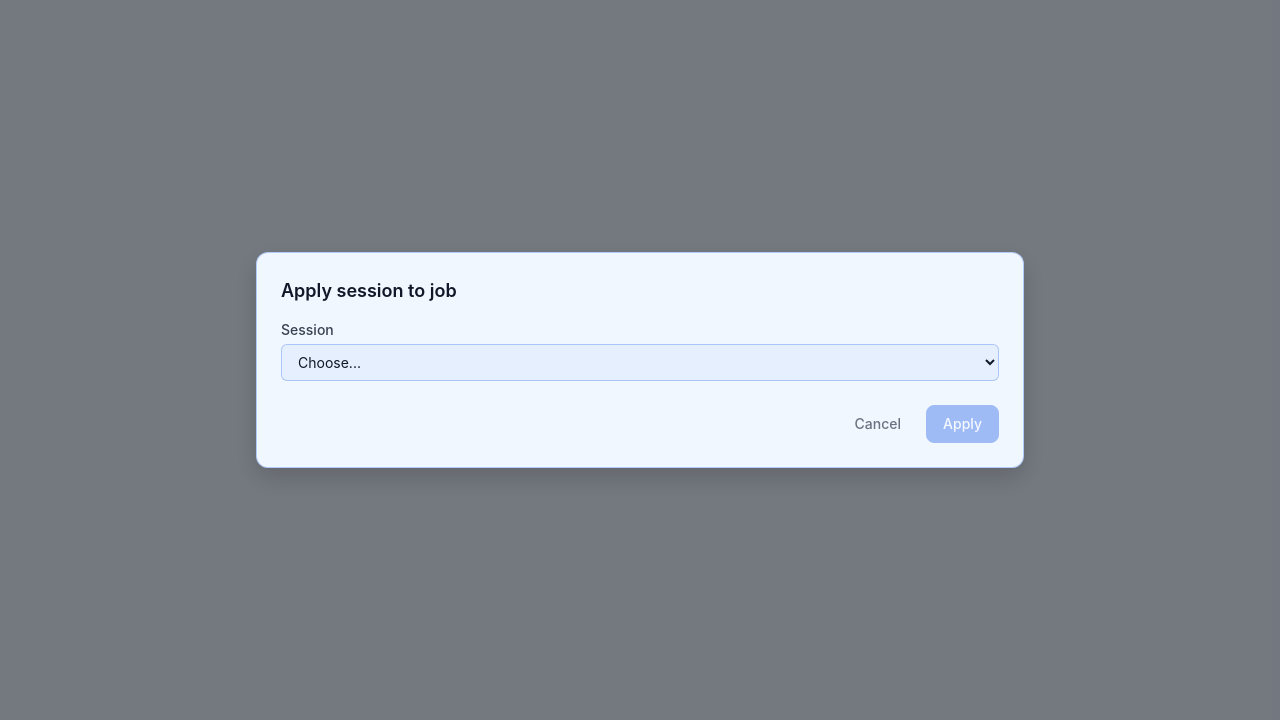
Test: ApplySessionDialog › hides the Overwrite button and shows the explanation for a duplicate_in_request collision
Step 1. Select "Movie MKV (movie)" in the dropdown with test id "apply-session-select" → point(640, 362), box [281,344,999,381]
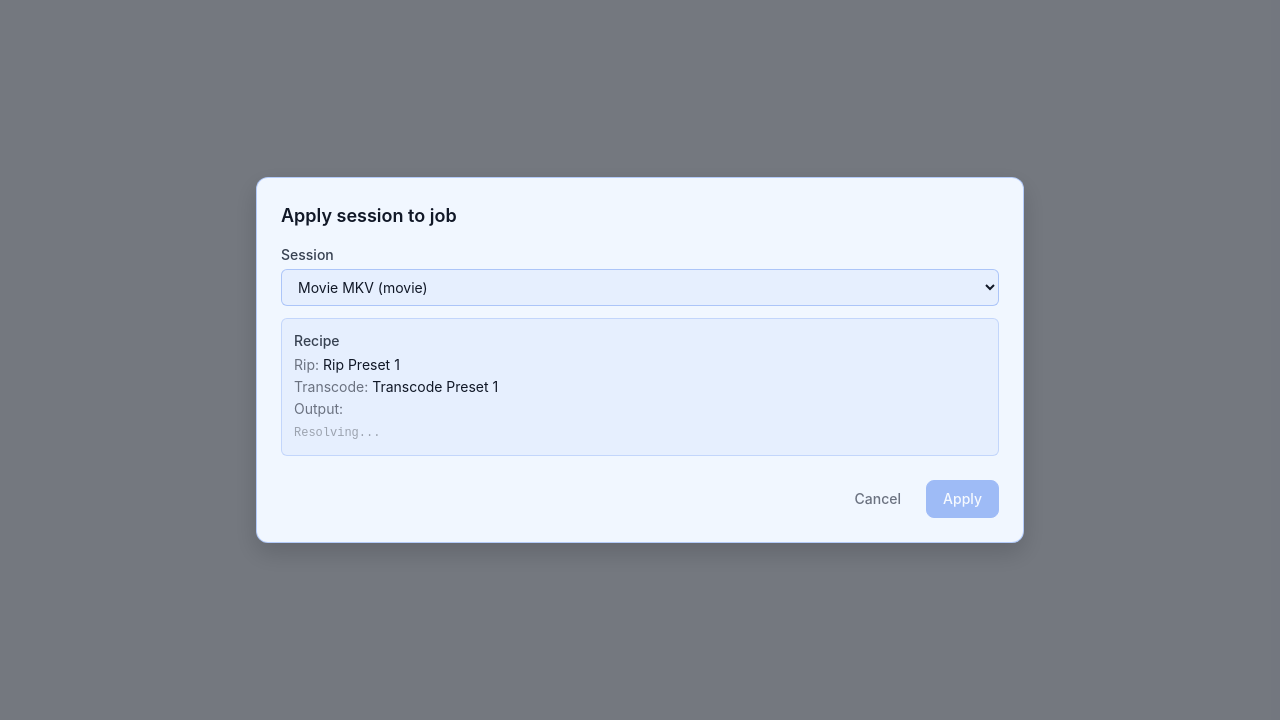
Step 2. Click the button with test id "apply-session-apply" → point(963, 499), box [926,480,999,518]
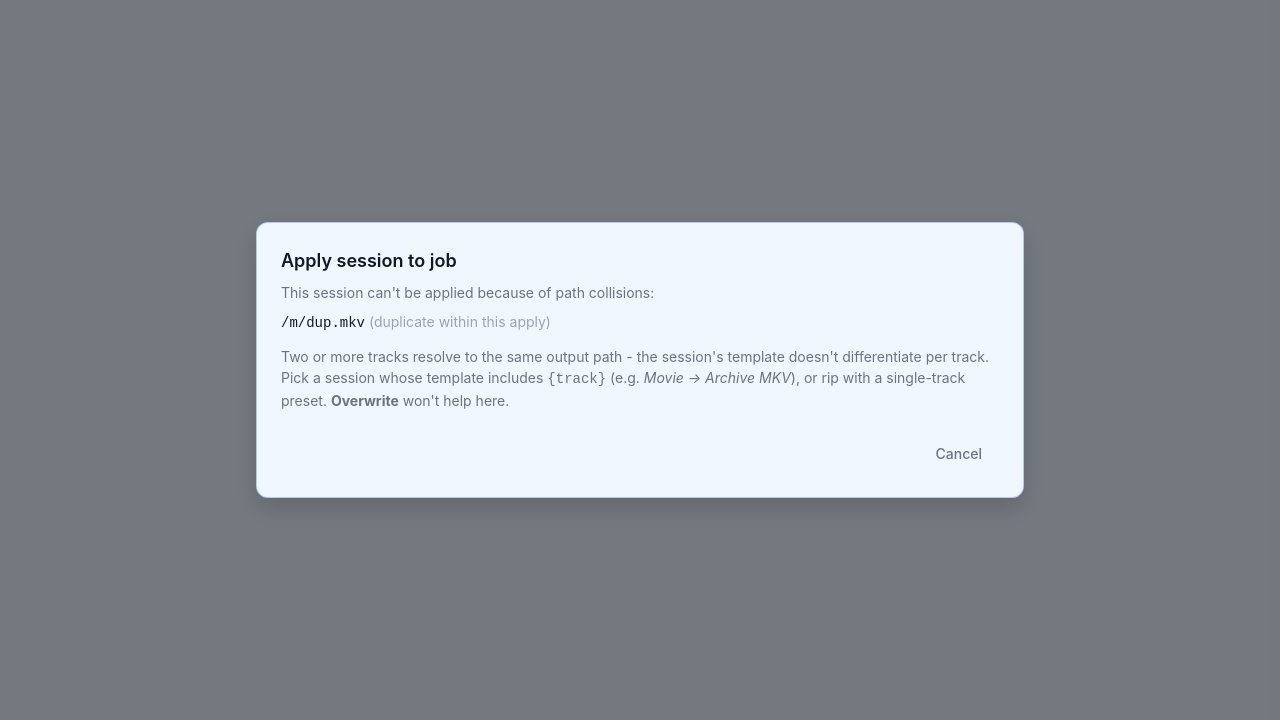
expect the text "/m/dup.mkv" is shown: met, box [281,315,365,331]
expect the text "(duplicate within this apply)" is shown: met, box [369,313,551,330]
expect the text "resolve to the same output path" is shown: met, box [281,348,989,386]
